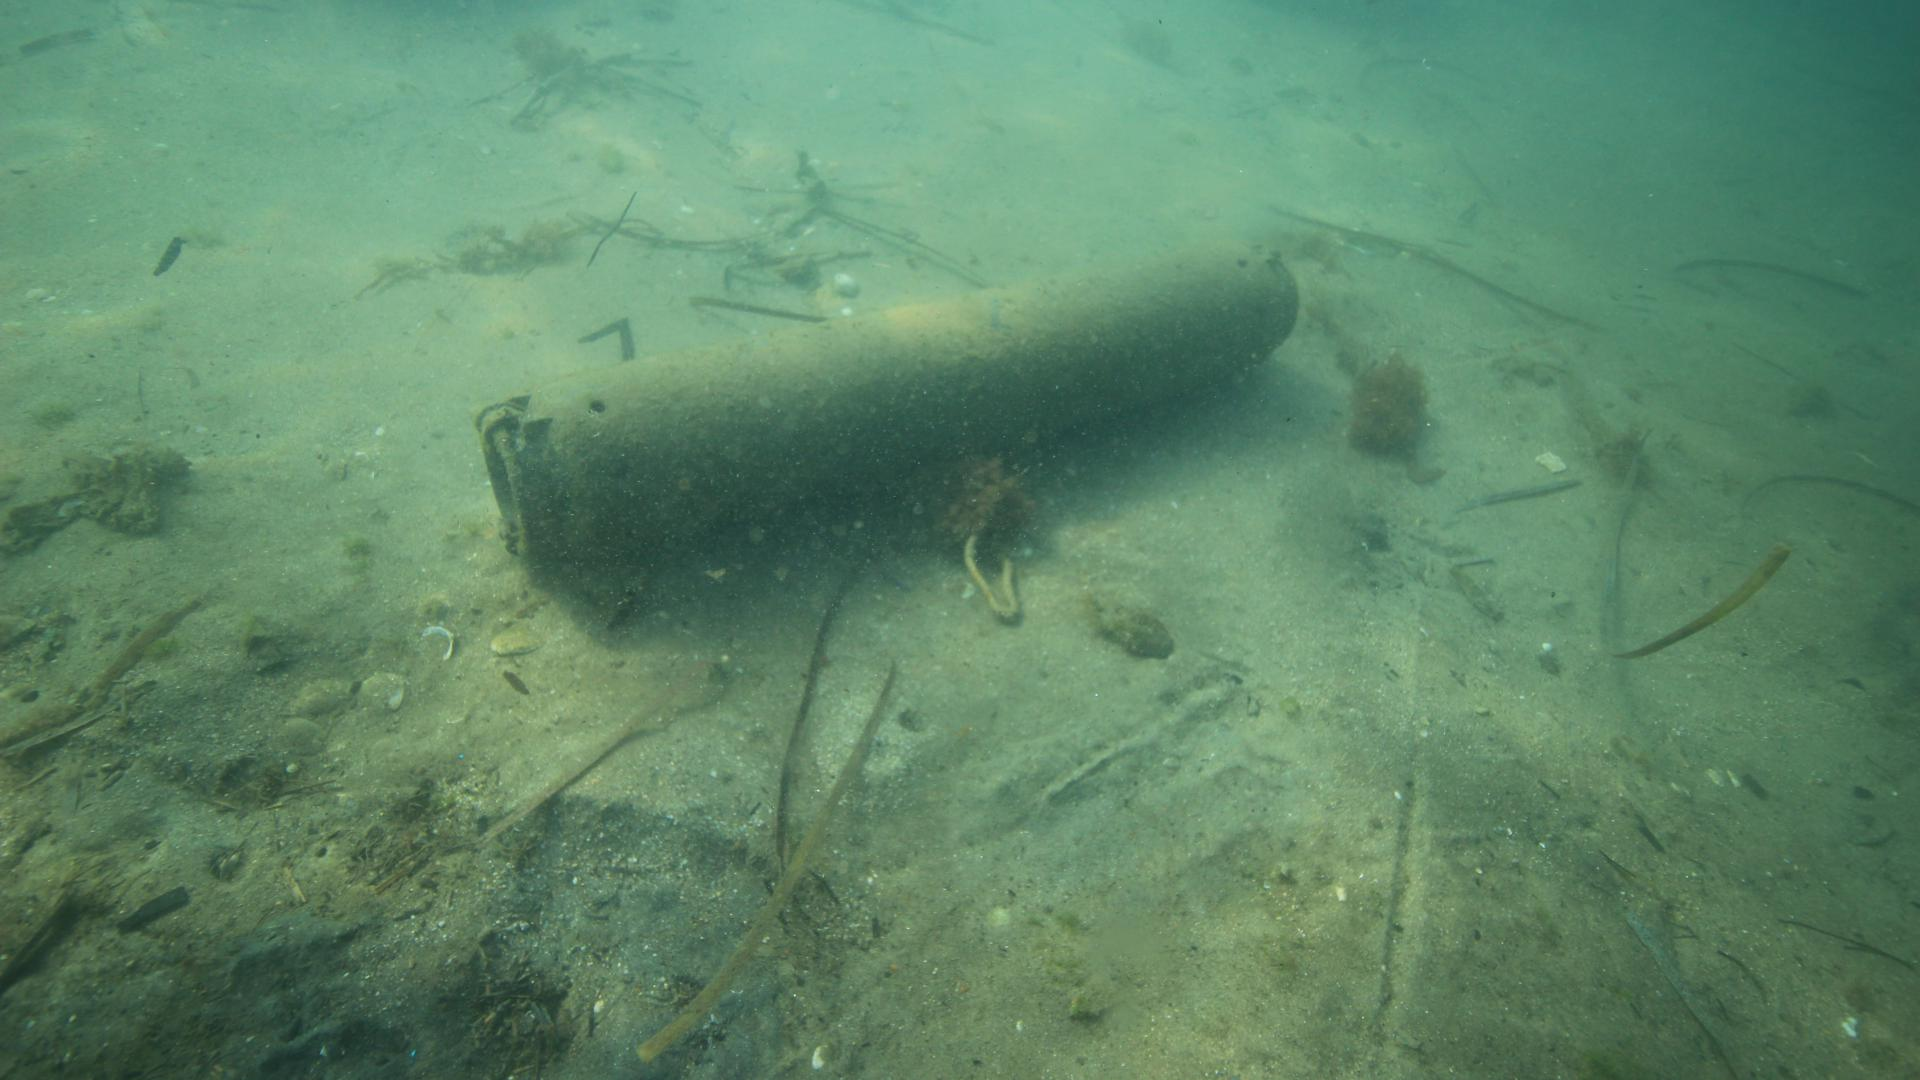eel fish trap: (477, 237, 1303, 560)
